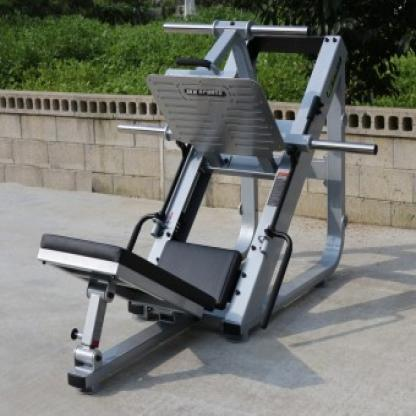leg press: (38, 17, 381, 397)
